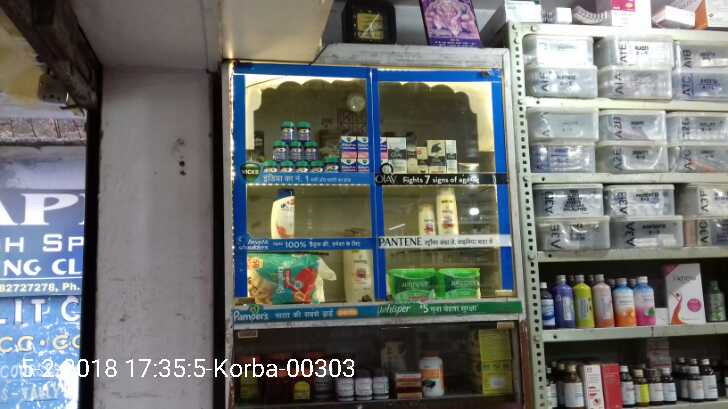vicks: (264, 119, 369, 180)
